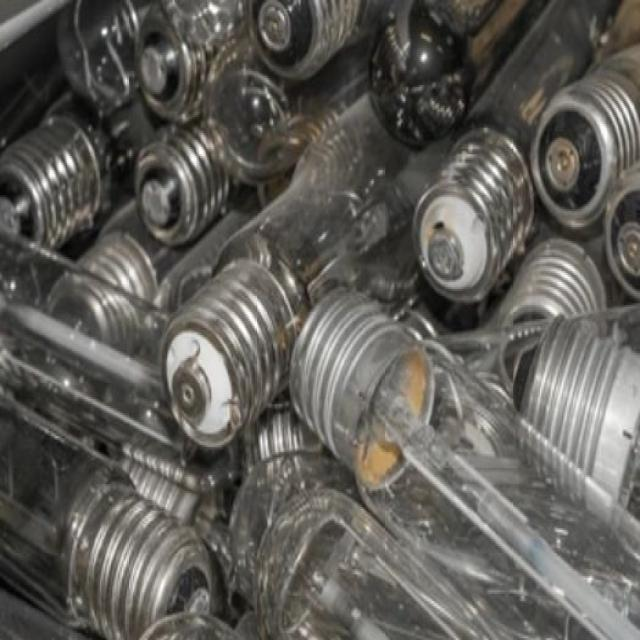electronic: (0, 0, 639, 638), (288, 284, 435, 491), (158, 256, 296, 448), (410, 122, 535, 305), (528, 36, 639, 230)
